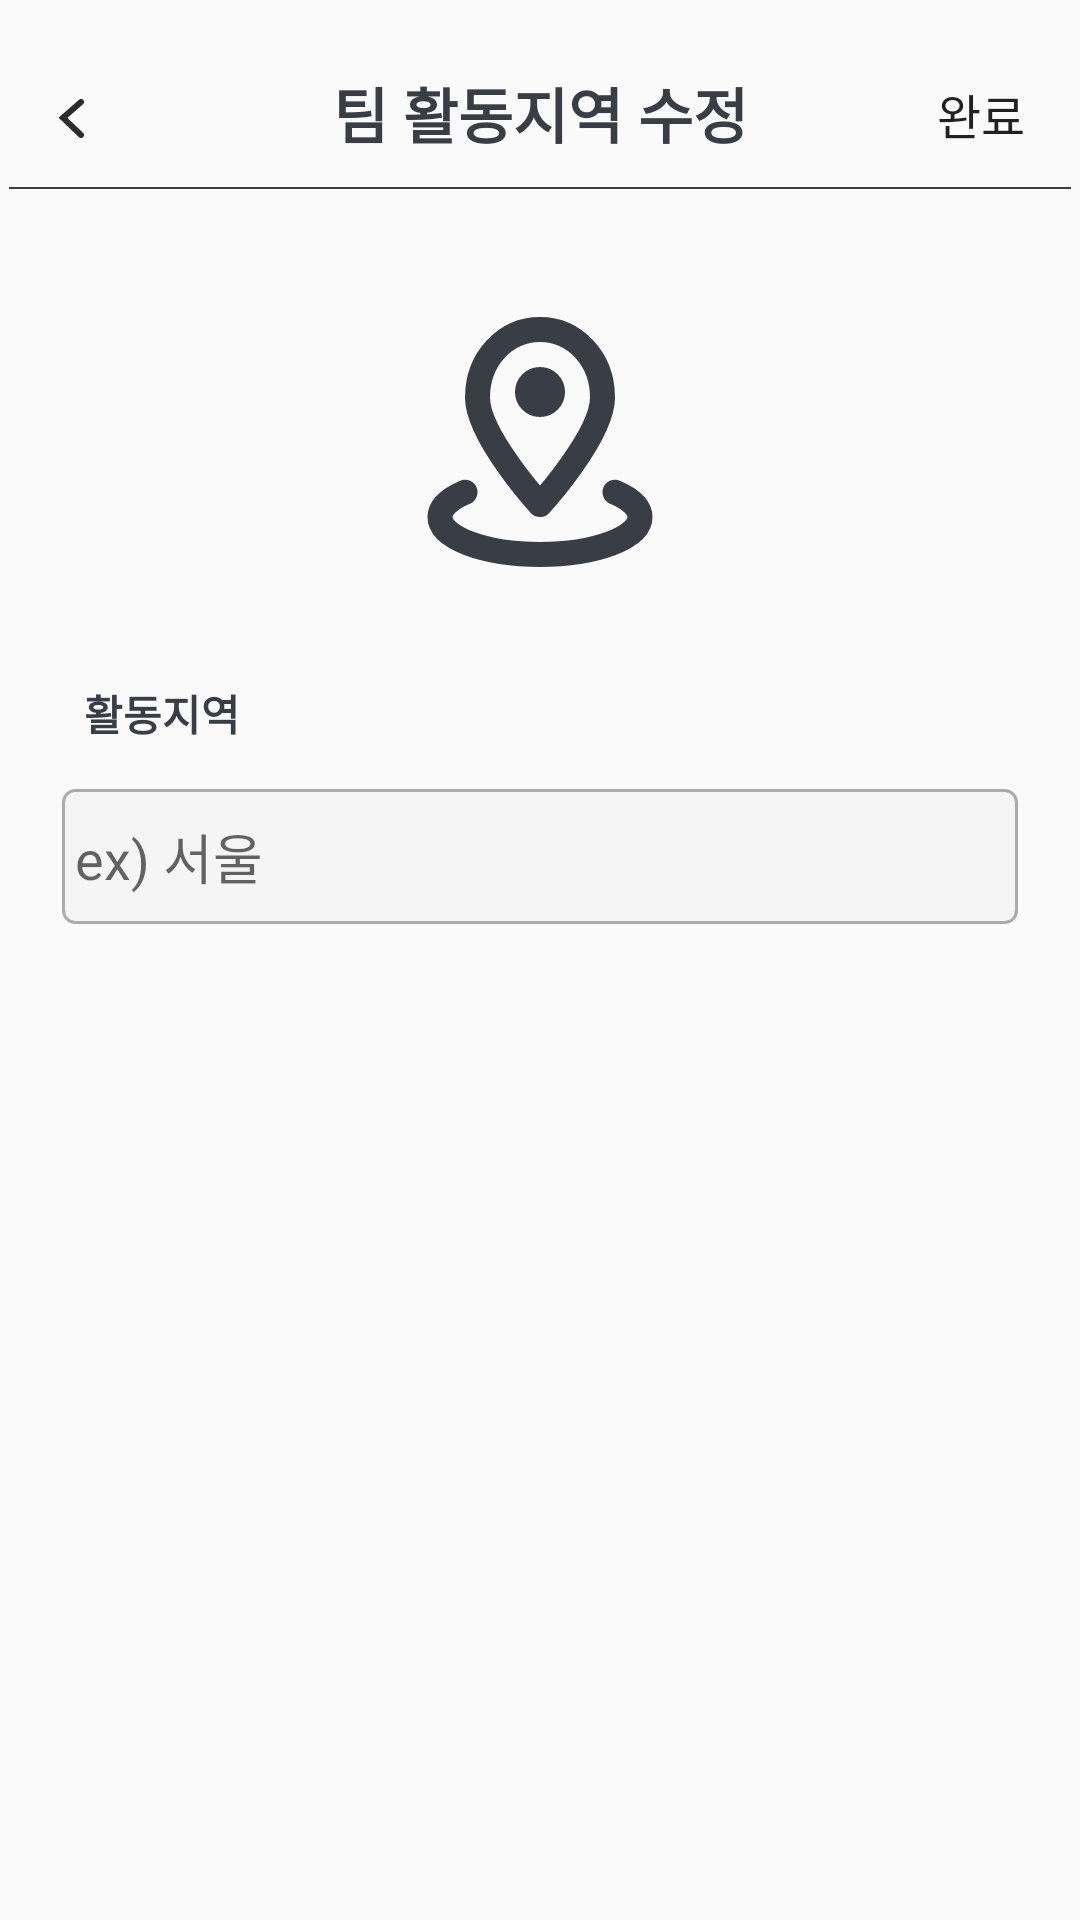

Icon bounding boxes for this 1080w x 1920h phone screenshot, format (x1, y1, x2, y2):
area: (427, 317, 653, 567)
arrow: (58, 99, 84, 138)
